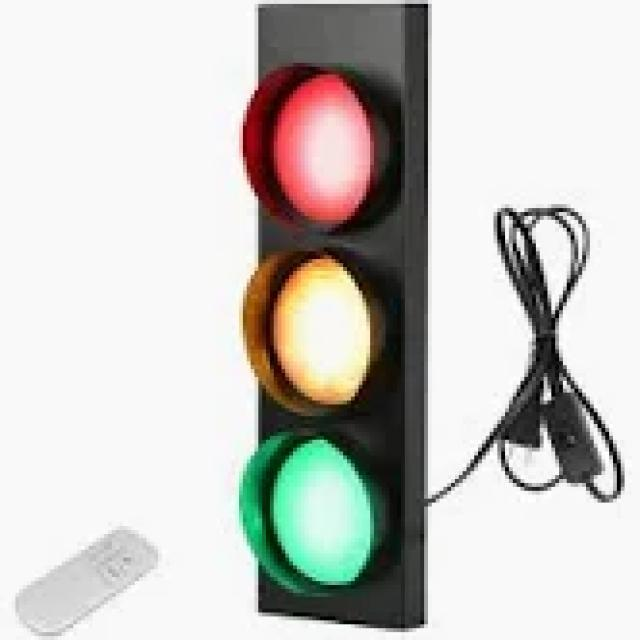suv: (235, 0, 428, 628)
